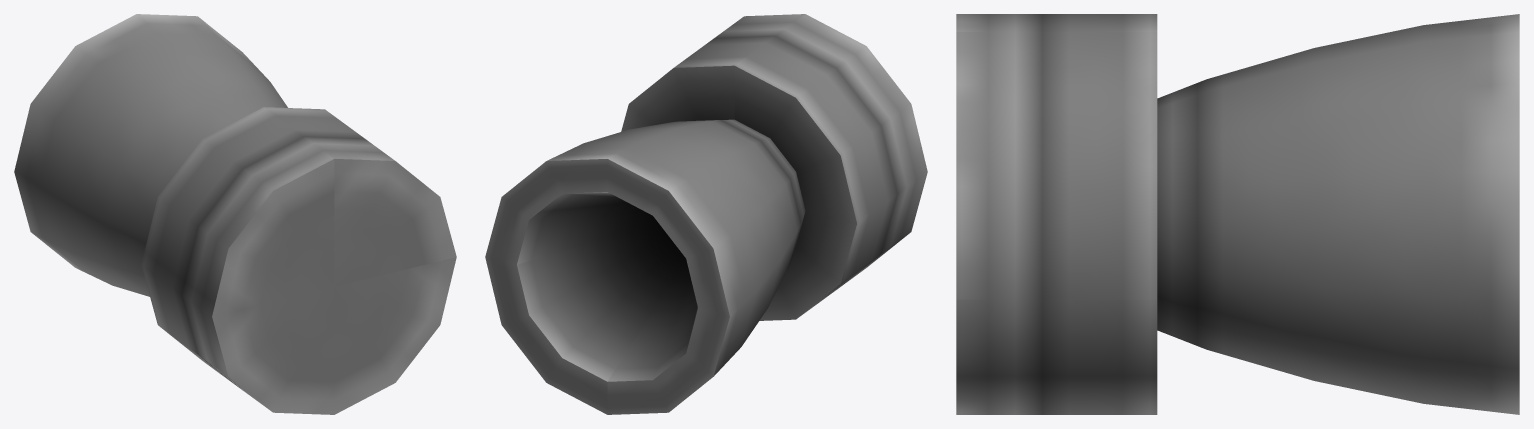
The model's file is rcs0.fbx.
3 views of the same model, side by side, from view 1: azimuth 30°, elevation 25°; view 2: azimuth 150°, elevation 25°; view 3: azimuth 270°, elevation 25° (orthographic). The views are drawn at different scales.
Visible parts, largest first — view 1: mesh; view 2: mesh; view 3: mesh.
Boxes of the visible parts, left/top/right/bottom form: mesh: left=14, top=14, right=456, bottom=414; mesh: left=485, top=14, right=927, bottom=414; mesh: left=956, top=14, right=1519, bottom=414.
Size of the model in its own units: 0.05 by 0.05 by 0.07.
Materials: 1 (1 with a texture image).
